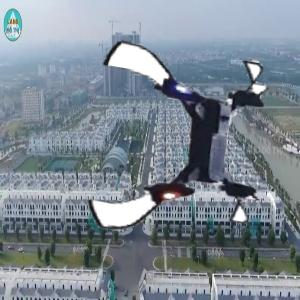drone: (80, 48, 274, 242)
